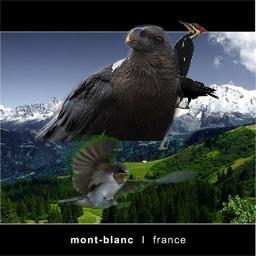Crow: (32, 23, 184, 141), (153, 71, 219, 109)
Swallow: (58, 135, 199, 209)
Woodpecker: (170, 20, 208, 92)
